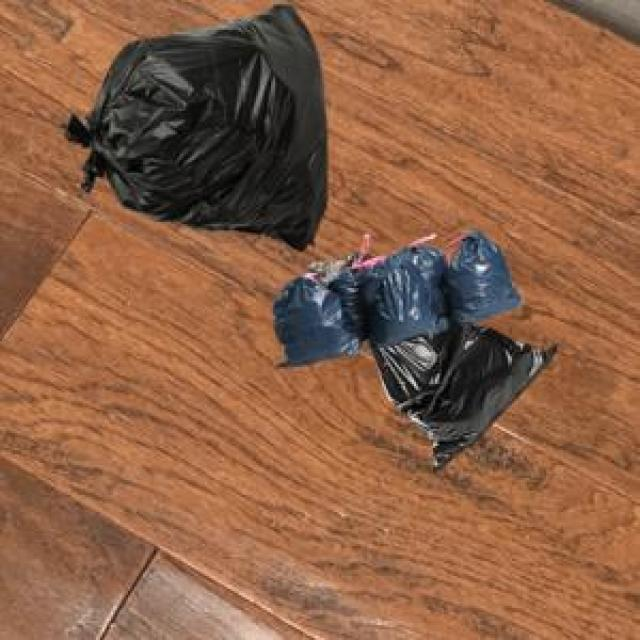Vinyl: (274, 231, 556, 466), (69, 5, 328, 247)
